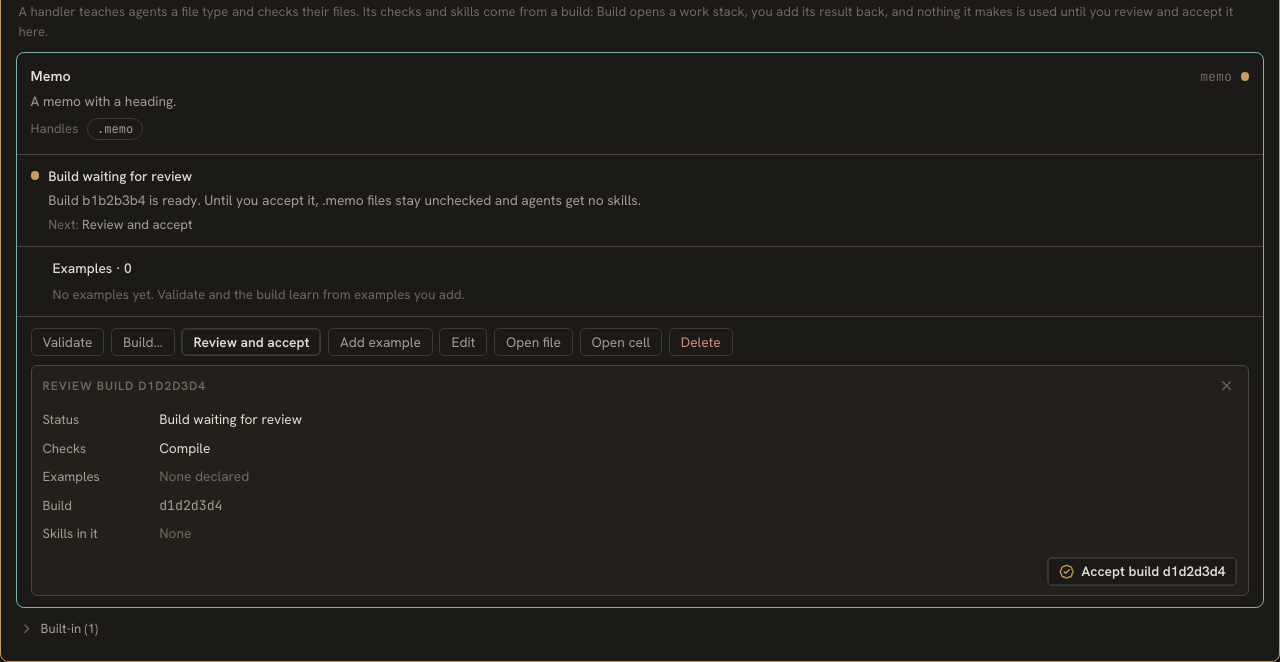
Scenario: A handler focus is shown once, even when its card remounts › Show in Capabilities (Review), accept, a search hides the card, the search clears: Review never re-opens
(page scrolled)
Click the button "Accept build d1d2d3d4": (1142, 572) [1047, 557, 1238, 586]
(page scrolled)
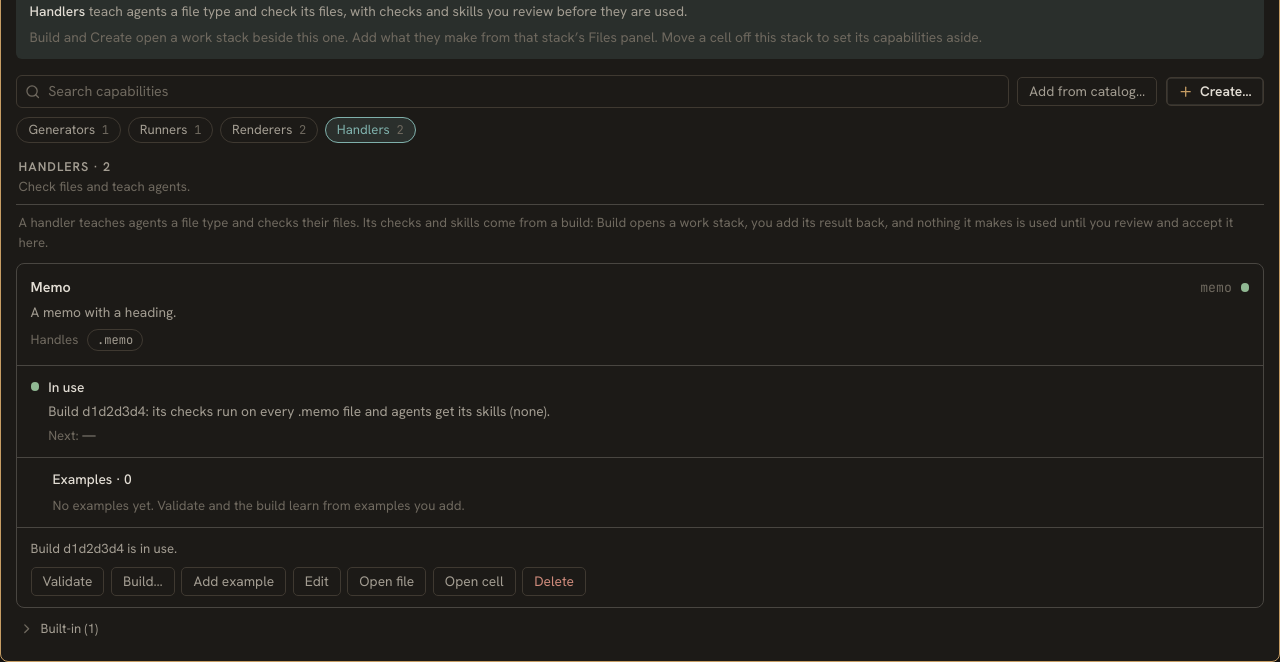
Now the heading "Review build d1d2d3d4" is gone
Now the message reads "Build d1d2d3d4 is in use.", box [31, 540, 177, 557]
// Type 'foo' in Search capabilities: the card goes away (unmounts).
In the search field labelled "Search capabilities": (512, 91) [16, 75, 1009, 108], type "foo"
(page scrolled)
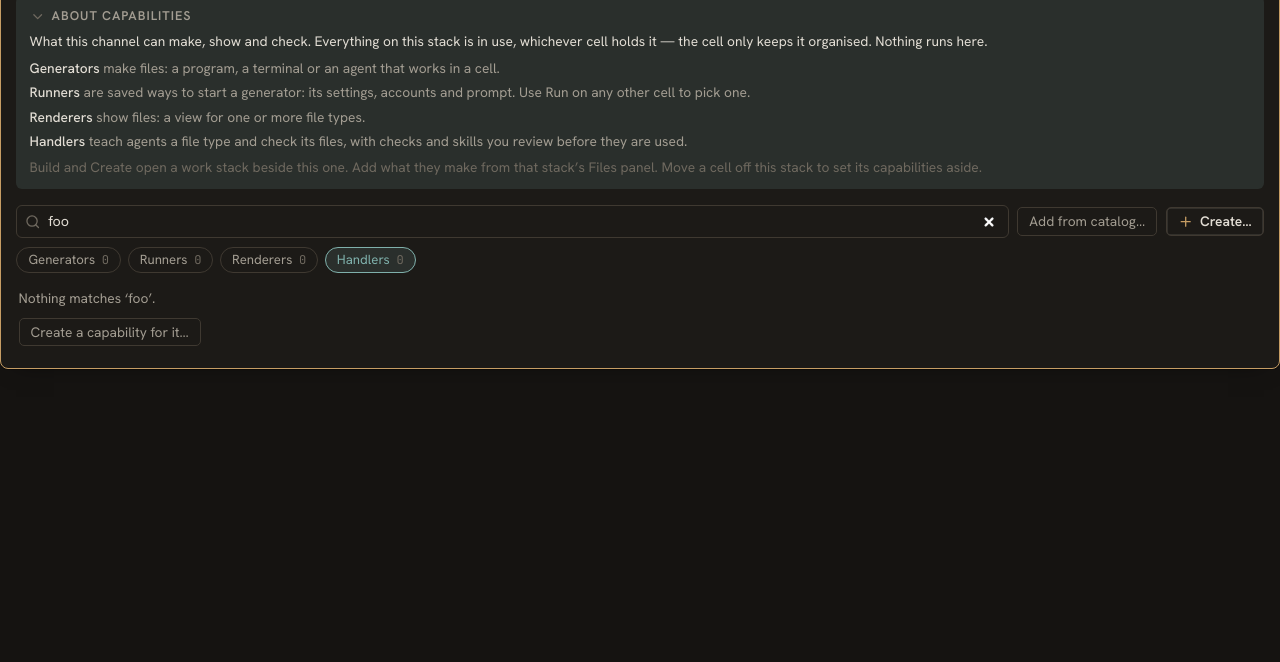
// Clear the search: the card comes back.
Clear the search field named "Search capabilities": (512, 221) [16, 205, 1009, 238]
(page scrolled)
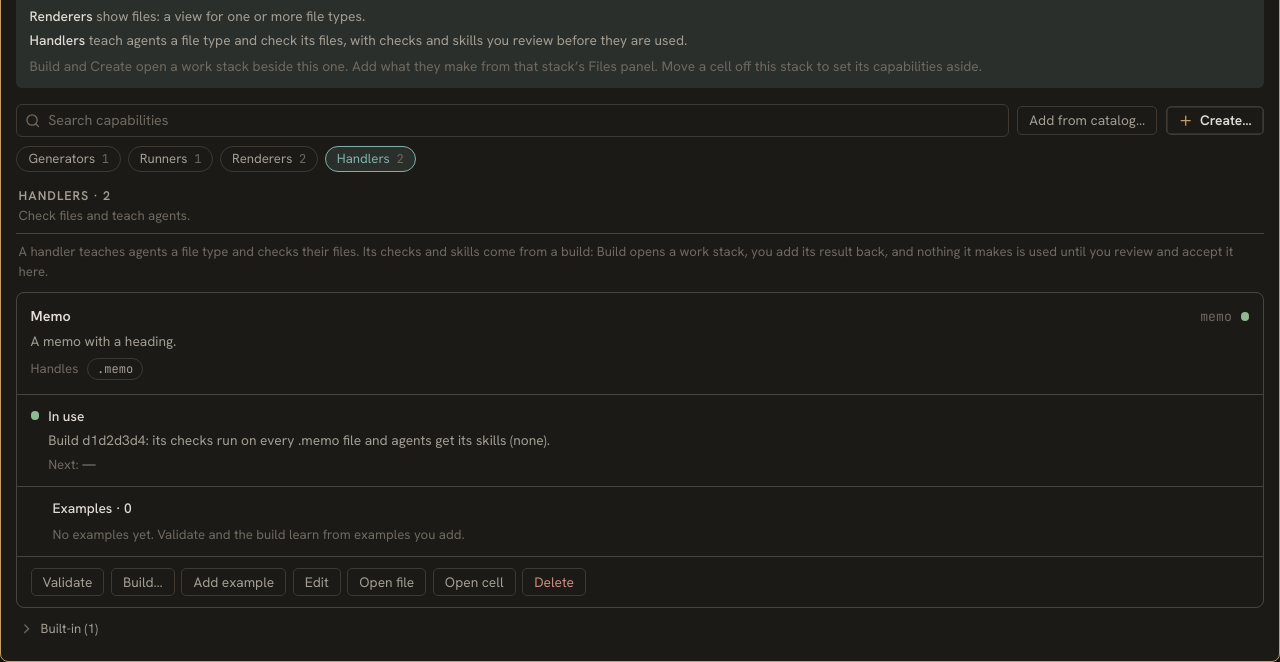
Now the element named "Memo handler" is shown, box [16, 292, 1264, 608]
